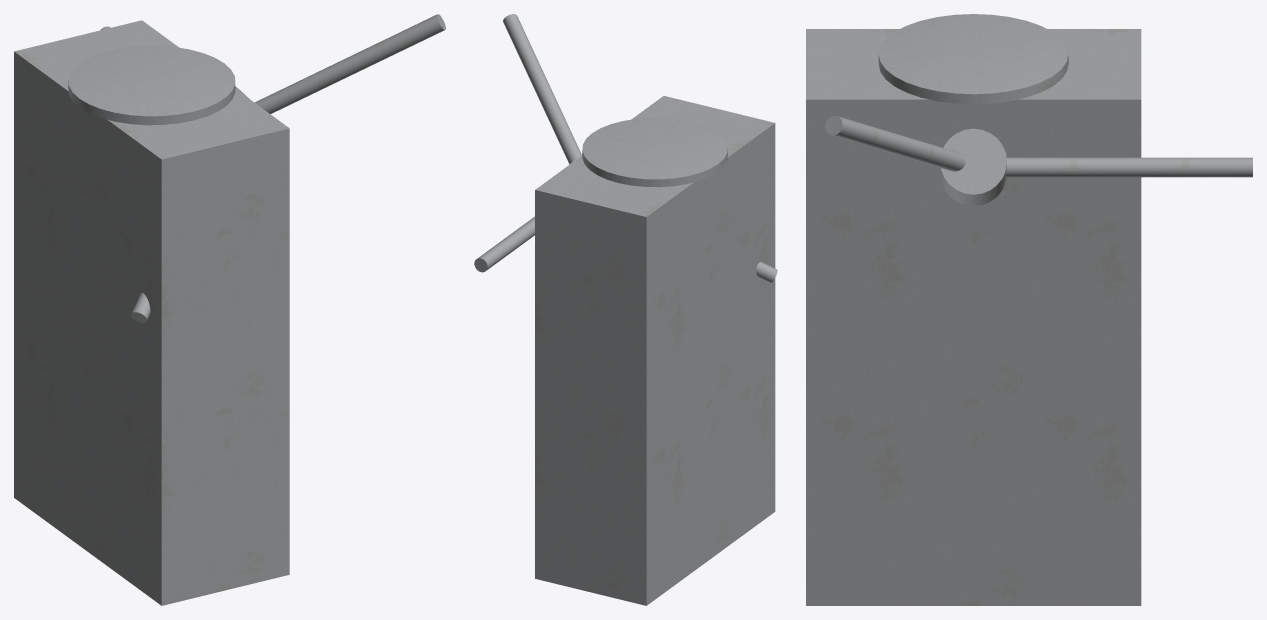
Rendered from SM_QUE_Turnstile.fbx.
3 renders of one model, left to right at view 1: azimuth 30°, elevation 25°; view 2: azimuth 150°, elevation 25°; view 3: azimuth 270°, elevation 25°, orthographic. The views are drawn at different scales.
Parts seen in each view (by area): view 1: SM_QUE_Turnstile; view 2: SM_QUE_Turnstile; view 3: SM_QUE_Turnstile.
Part boxes in pixels (bbox=[...]): SM_QUE_Turnstile: bbox=[14, 14, 445, 605]; SM_QUE_Turnstile: bbox=[474, 14, 777, 605]; SM_QUE_Turnstile: bbox=[806, 14, 1252, 605].
Size of the model in its own units: 0.7344 by 1.14 by 0.8.
